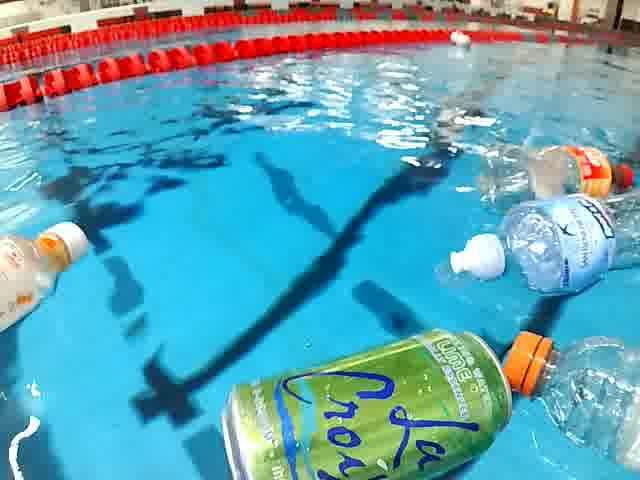Bottle: (436, 183, 640, 303), (497, 325, 640, 475), (0, 217, 98, 347), (469, 140, 640, 204)
Can: (215, 324, 515, 480)
